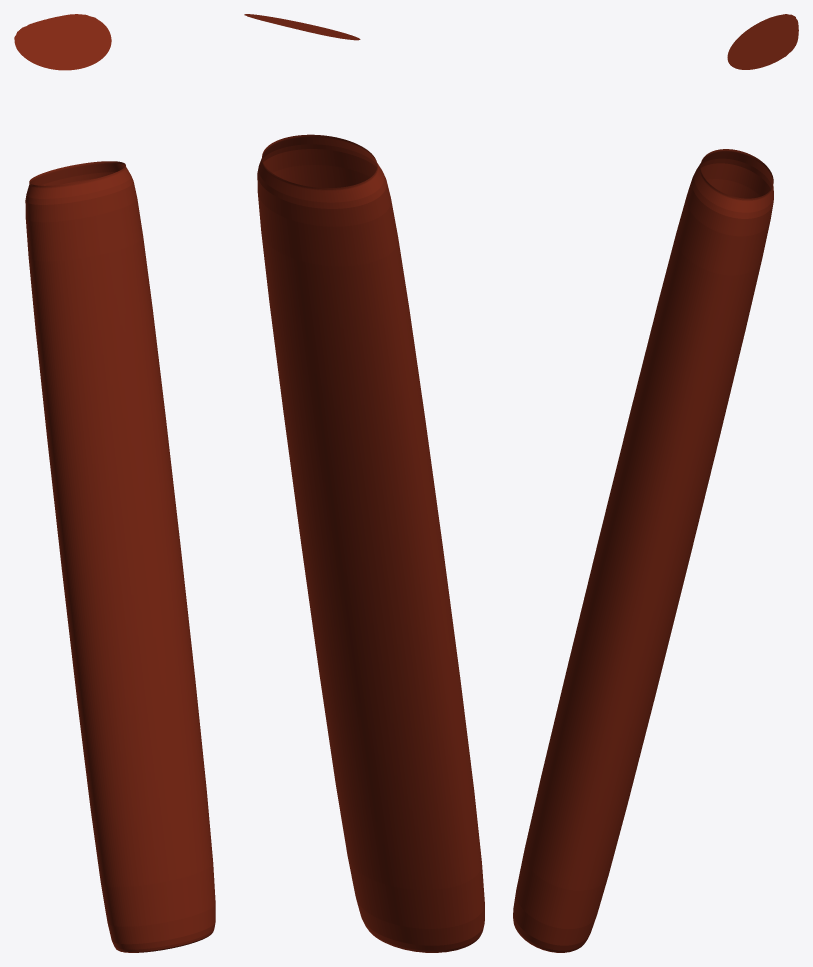
File: pan_2.obj
3 renders of one model, left to right at view 1: azimuth 30°, elevation 25°; view 2: azimuth 150°, elevation 25°; view 3: azimuth 270°, elevation 25°, orthographic. The views are drawn at different scales.
Size of the model in its own units: 0.0249 by 0.1805 by 0.0516.
